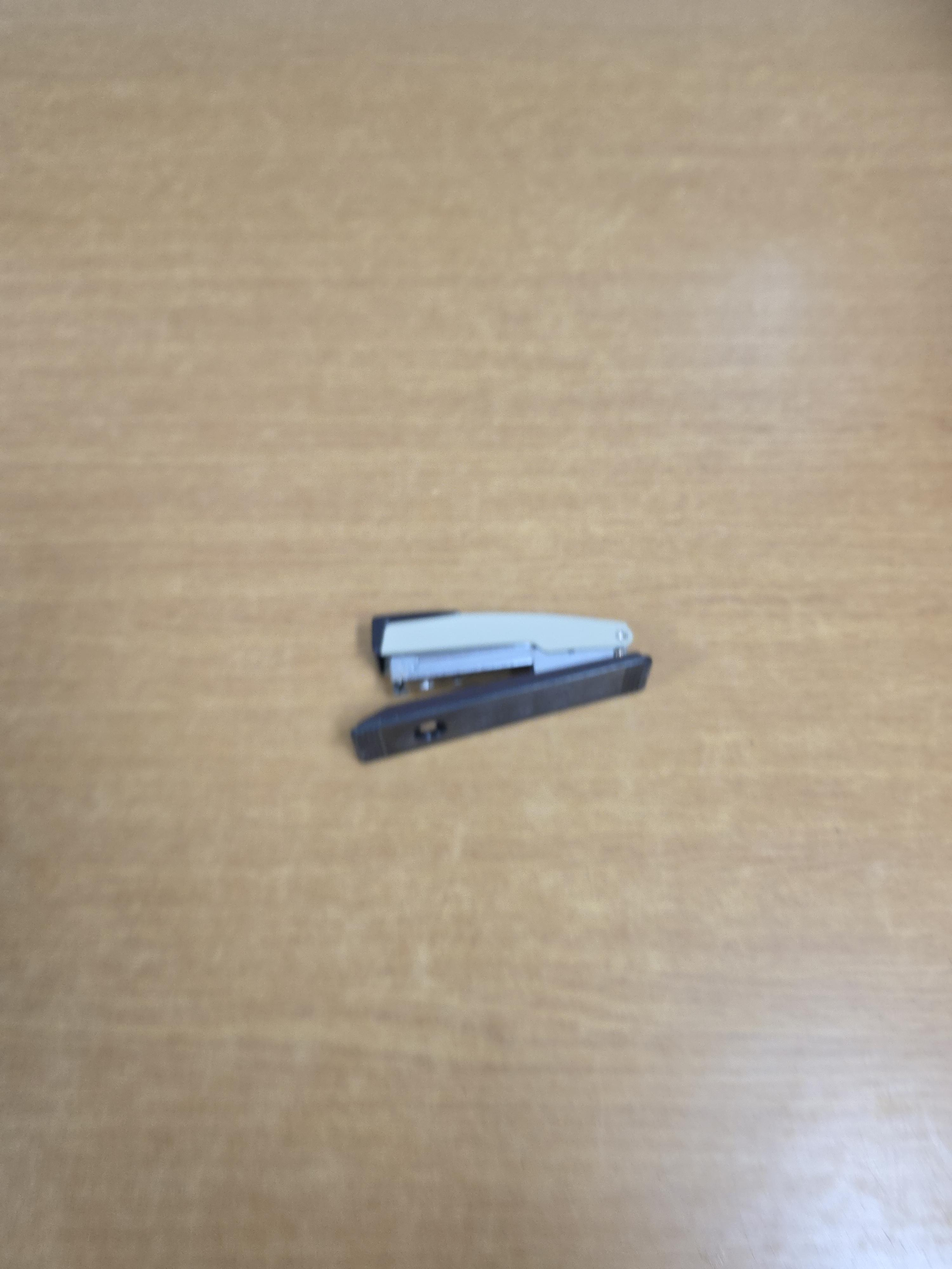stapler: (350, 609, 654, 763)
